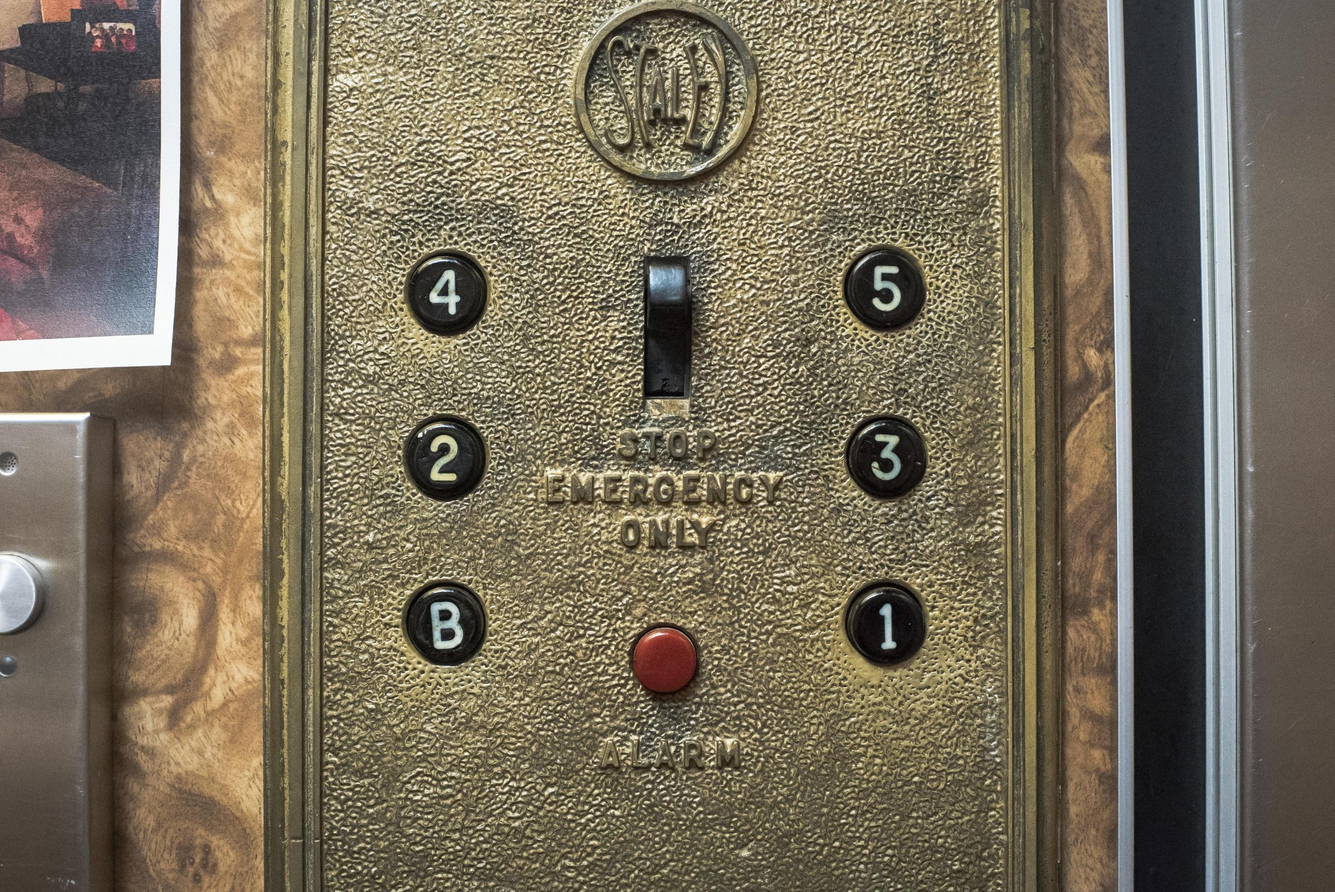1: (842, 576, 927, 670)
2: (401, 410, 487, 499)
3: (844, 413, 926, 499)
4: (404, 249, 490, 338)
5: (837, 241, 928, 335)
B: (400, 580, 488, 666)
unknown: (636, 252, 702, 421), (629, 623, 701, 695)
